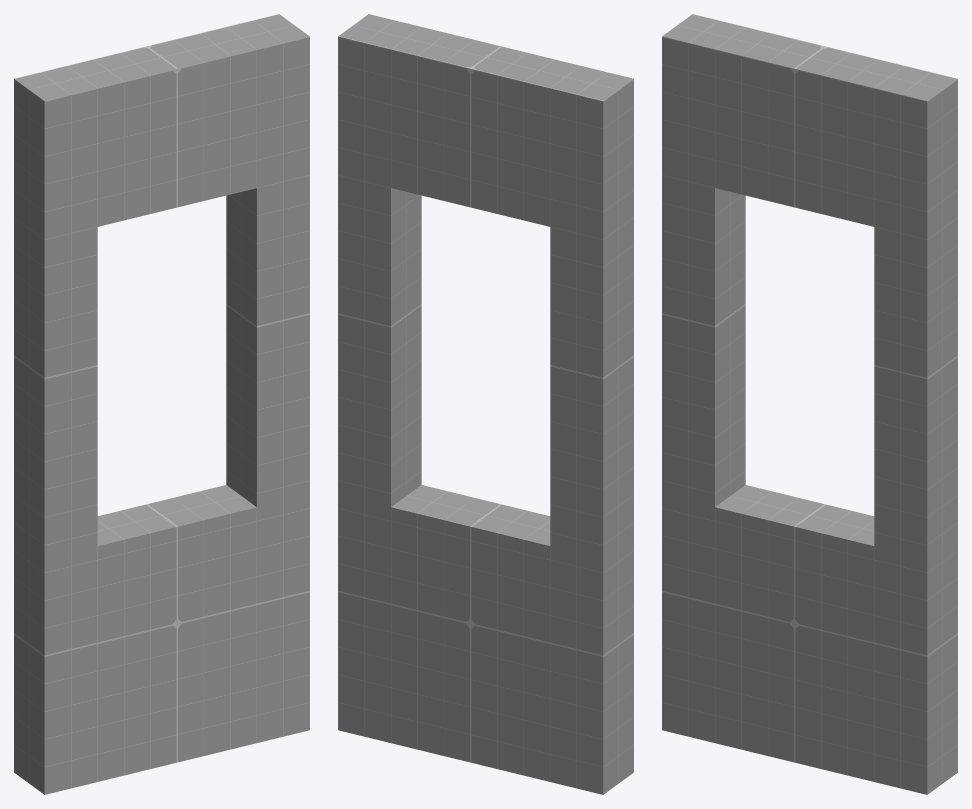
The model's file is Window_1x1.001.fbx.
The picture shows the model from 3 angles, left to right: view 1: azimuth 30°, elevation 25°; view 2: azimuth 150°, elevation 25°; view 3: azimuth 330°, elevation 25°; orthographic projection.
Visible parts, largest first — view 1: Window_1x1.001; view 2: Window_1x1.001; view 3: Window_1x1.001.
Boxes of the visible parts, <box> form: Window_1x1.001: <box>14,14,309,794</box>; Window_1x1.001: <box>338,14,633,794</box>; Window_1x1.001: <box>662,14,957,794</box>.
Size of the model in its own units: 100 by 250 by 20.
